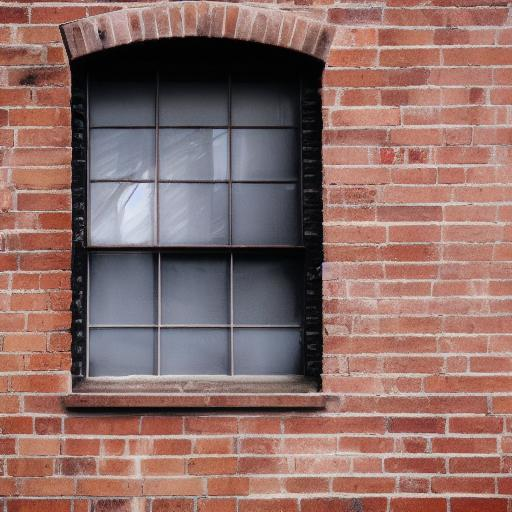Window: (60, 1, 328, 413)
